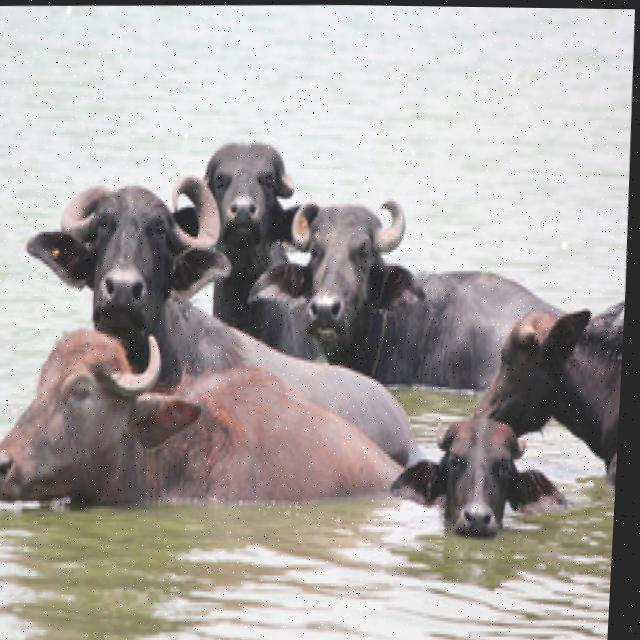Buffalo: (0, 315, 402, 522)
